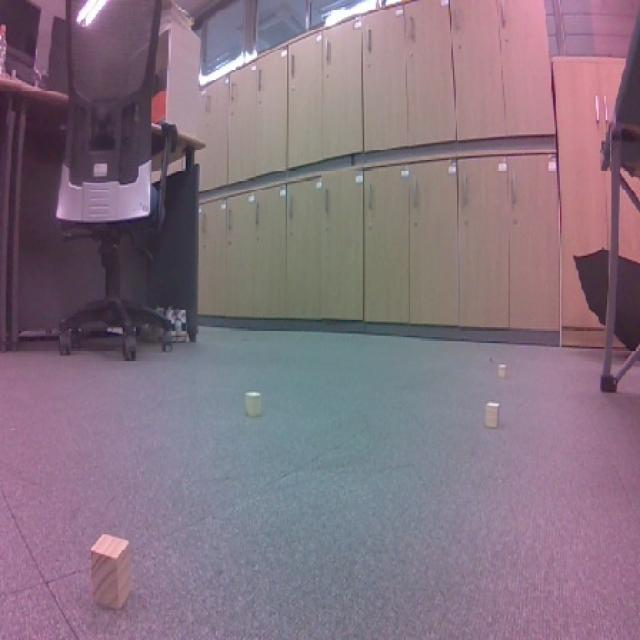obstacle: (77, 519, 150, 618)
